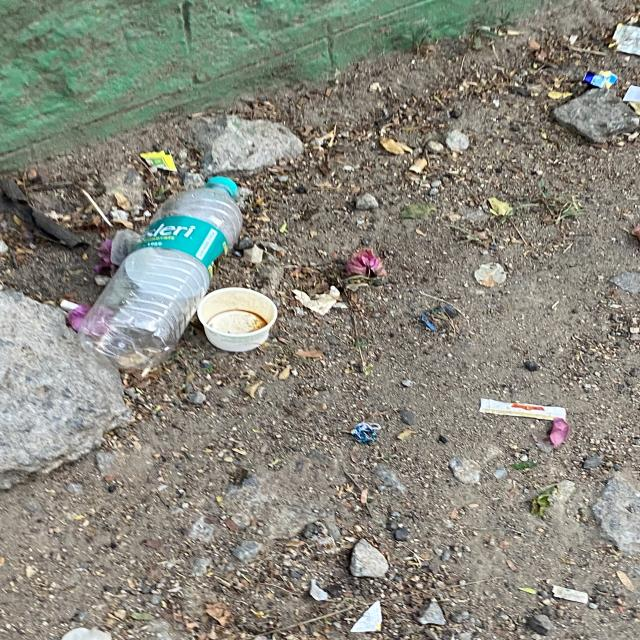chai_nhua: (77, 177, 242, 369)
ly_hop_giay: (197, 287, 277, 352)
